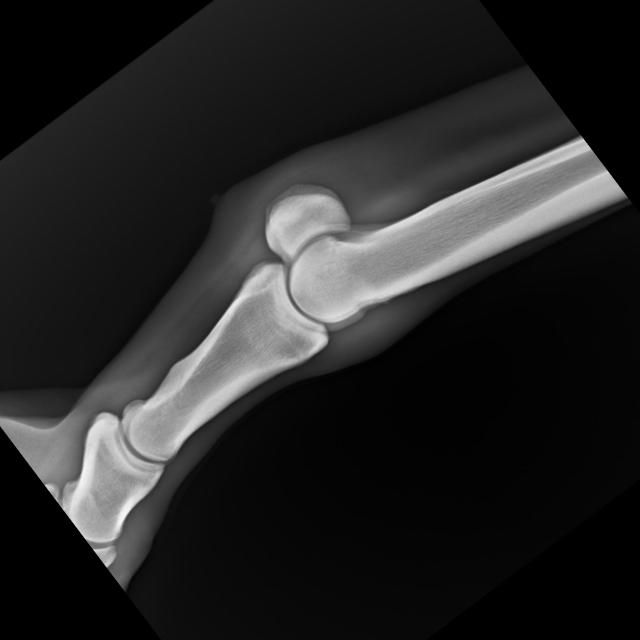joint-ht8A: (149, 87, 503, 444)
